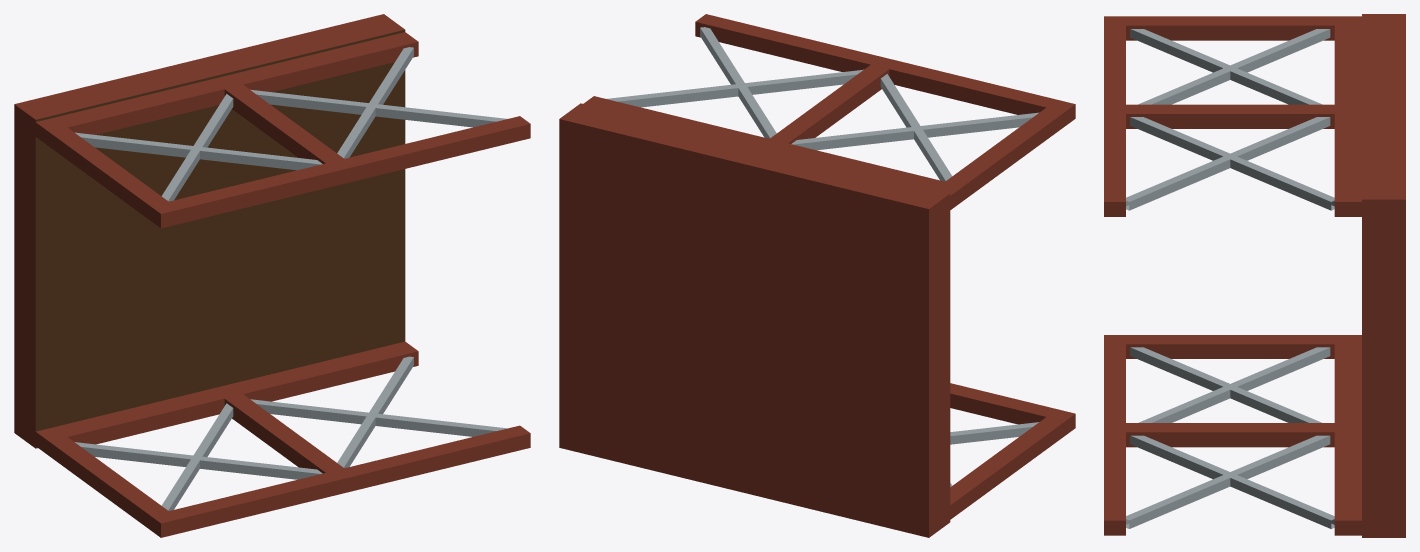
The model's file is middle.glb.
3 views of the same model, side by side, from view 1: azimuth 30°, elevation 25°; view 2: azimuth 150°, elevation 25°; view 3: azimuth 270°, elevation 25° (orthographic). The views are drawn at different scales.
Visible parts, largest first — view 1: bridge_09_middle; view 2: bridge_09_middle; view 3: bridge_09_middle.
Boxes of the visible parts, <box> form: bridge_09_middle: <box>14,14,530,537</box>; bridge_09_middle: <box>559,14,1075,537</box>; bridge_09_middle: <box>1104,14,1405,537</box>.
Bounding box in the file's own units: 16 × 13.6 × 11.
